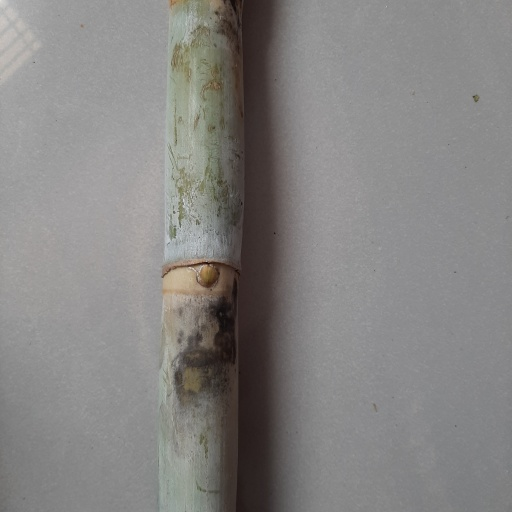Bud: (193, 263, 221, 290)
